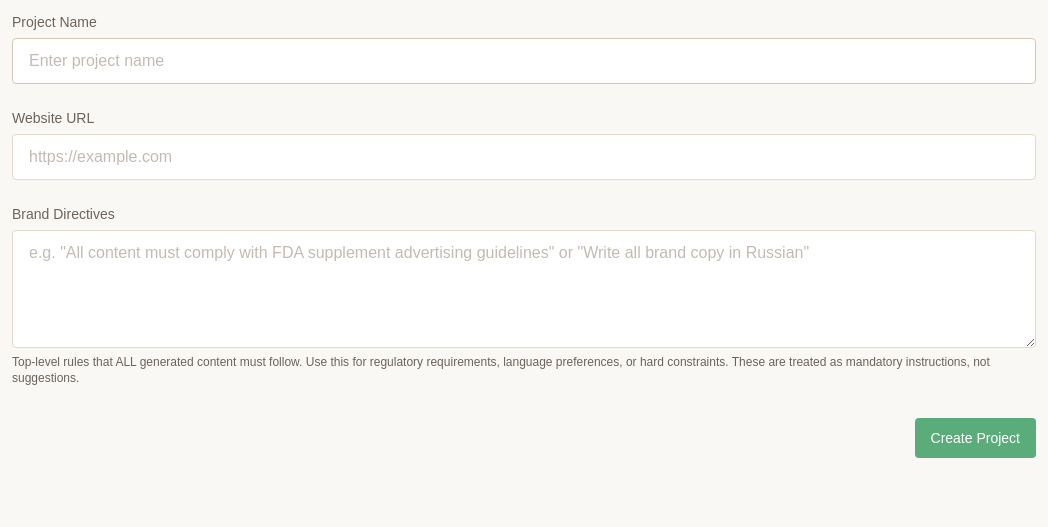
it: ProjectForm › validation - required fields › shows both errors when both fields are empty
Click the button "Create Project".
click(975, 438)  # box x1=914 y1=418 x2=1036 y2=458
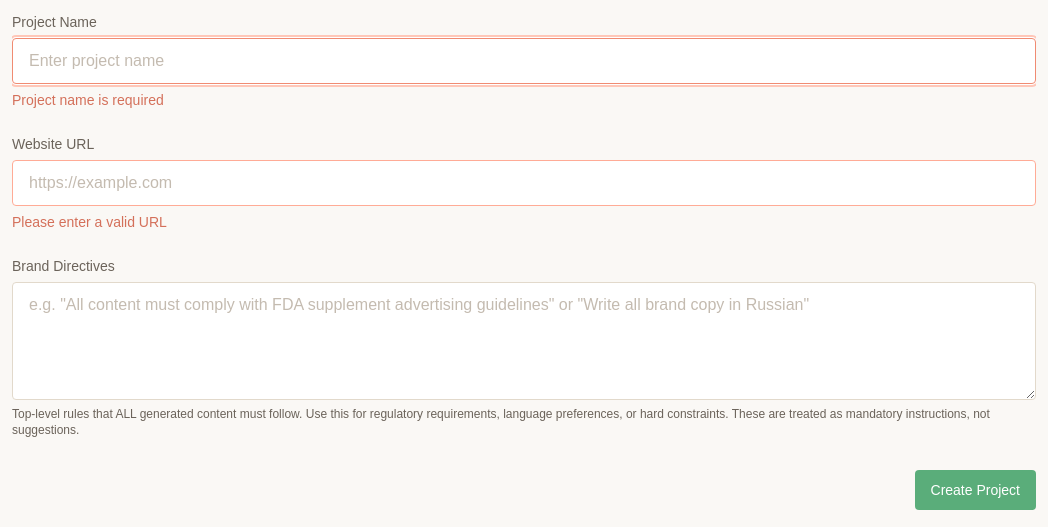
Expected: the text "Project name is required" is shown, x1=12 y1=92 x2=164 y2=108
Expected: the text "Please enter a valid URL" is shown, x1=12 y1=214 x2=167 y2=230
